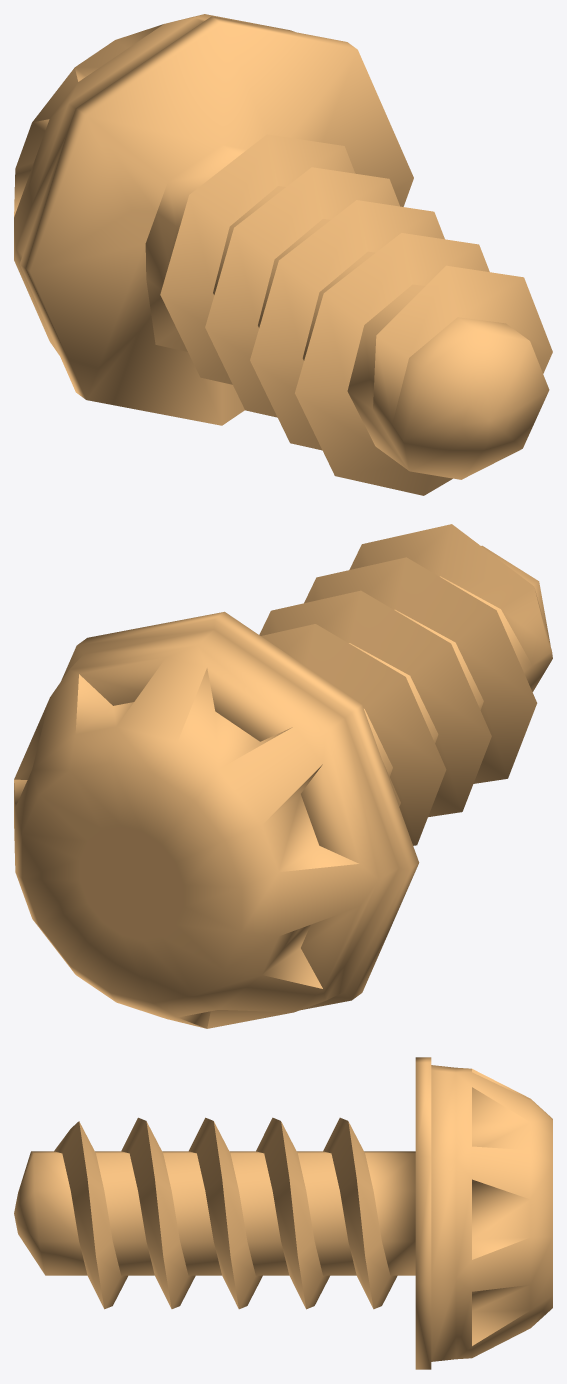
The model's file is screw.gltf.
3 views of the same model, one above another, from view 1: azimuth 30°, elevation 25°; view 2: azimuth 150°, elevation 25°; view 3: azimuth 270°, elevation 25° (orthographic). The views are drawn at different scales.
Visible parts, largest first — view 1: screw002; view 2: screw002; view 3: screw002.
Part boxes in pixels (bbox=[...]): screw002: bbox=[14, 14, 552, 495]; screw002: bbox=[14, 524, 552, 1028]; screw002: bbox=[14, 1057, 552, 1369].
Bounding box in the file's own units: 45.49 × 45.49 × 73.7.
